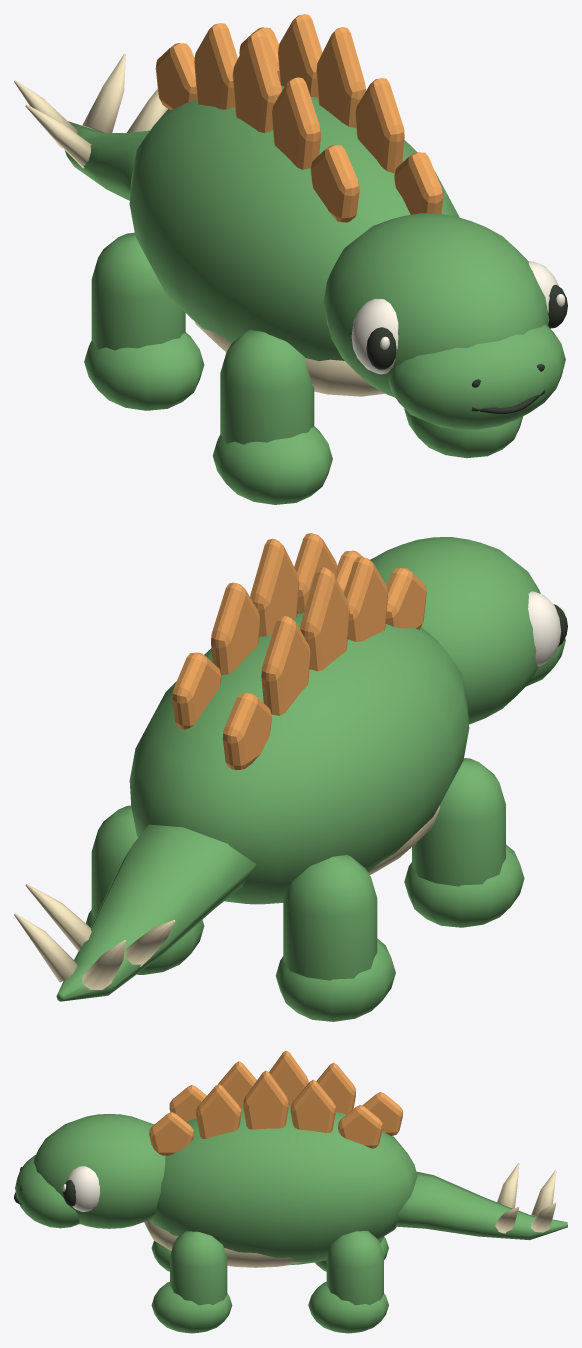
The model's file is org_stegosaurus.glb.
3 renders of one model, top to bottom at view 1: azimuth 30°, elevation 25°; view 2: azimuth 150°, elevation 25°; view 3: azimuth 270°, elevation 25°, orthographic. The views are drawn at different scales.
Parts seen in each view (by area): view 1: Body, Head, Leg_FR, Leg_BR, Tail, Eye_R, Leg_FL, Eye_L; view 2: Body, Tail, Head, Leg_BR, Leg_FR, Leg_BL, Eye_R; view 3: Body, Head, Tail, Leg_BL, Leg_FL, Eye_L, Leg_FR.
Boxes of the visible parts, x1,y1,x2,y2 form: Body: (129, 14, 459, 396); Head: (323, 213, 565, 429); Leg_FR: (212, 330, 332, 504); Leg_BR: (84, 232, 204, 410); Tail: (14, 53, 167, 200); Eye_R: (351, 298, 398, 374); Leg_FL: (404, 408, 522, 458); Eye_L: (528, 261, 567, 328); Body: (129, 533, 469, 904); Tail: (14, 824, 256, 1001); Head: (370, 537, 565, 724); Leg_BR: (275, 855, 395, 1021); Leg_FR: (404, 758, 524, 927); Leg_BL: (86, 805, 204, 974); Eye_R: (528, 591, 567, 666); Body: (144, 1050, 417, 1267); Head: (14, 1114, 165, 1228); Tail: (395, 1162, 567, 1240); Leg_BL: (308, 1231, 388, 1333); Leg_FL: (151, 1231, 232, 1333); Eye_L: (62, 1166, 100, 1211); Leg_FR: (151, 1241, 171, 1271).
Bounding box in the file's own units: 1.24 × 1.6 × 3.34.
